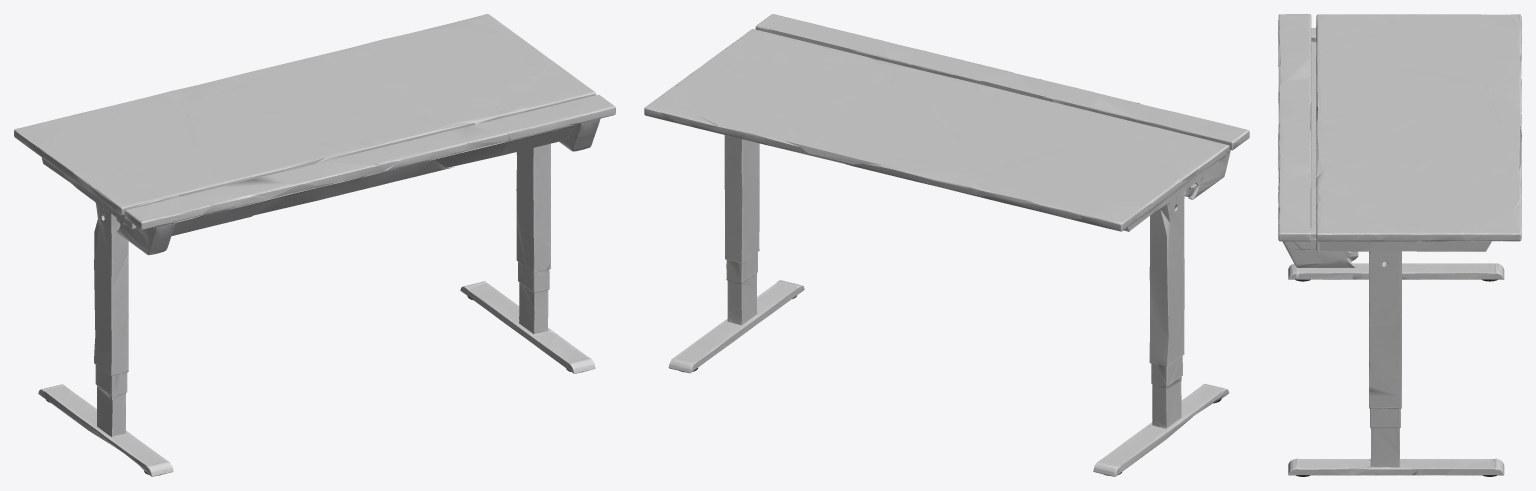
File: secretlab-co-products-secretlab-magnus-pro-box-1-white-1a2896.glb
The picture shows the model from 3 angles, left to right: view 1: azimuth 30°, elevation 25°; view 2: azimuth 150°, elevation 25°; view 3: azimuth 270°, elevation 25°; orthographic projection. The views are drawn at different scales.
Visible parts, largest first — view 1: Mesh_0; view 2: Mesh_0; view 3: Mesh_0.
Part boxes in pixels (x1=…): Mesh_0: x1=14, y1=14, x2=615, y2=476; Mesh_0: x1=644, y1=14, x2=1249, y2=476; Mesh_0: x1=1278, y1=14, x2=1521, y2=476.
Size of the model in its own units: 1.9 by 1.02 by 0.8884.
1 material, 1 textured.
